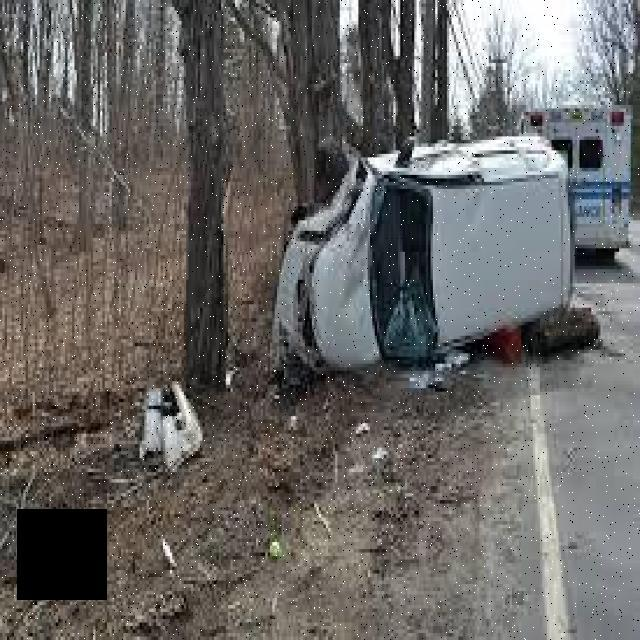severe: (262, 133, 580, 385)
